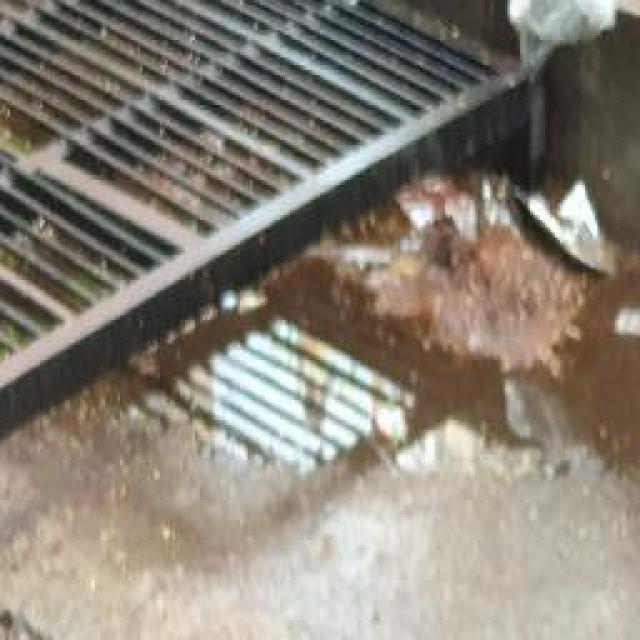stagnation: (73, 249, 640, 563)
